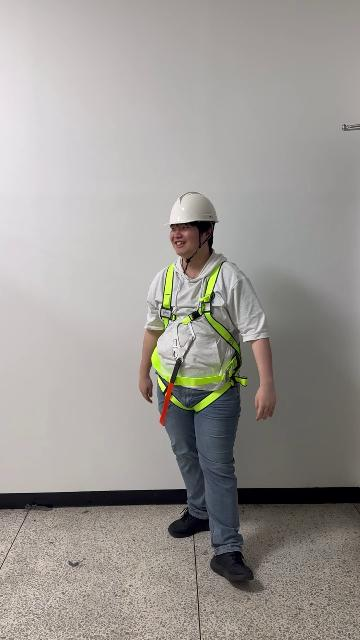helmet_worn: (163, 190, 220, 226)
shoe_not_worn: (210, 550, 254, 583), (167, 509, 209, 537)
vest_worn: (148, 260, 247, 413)
